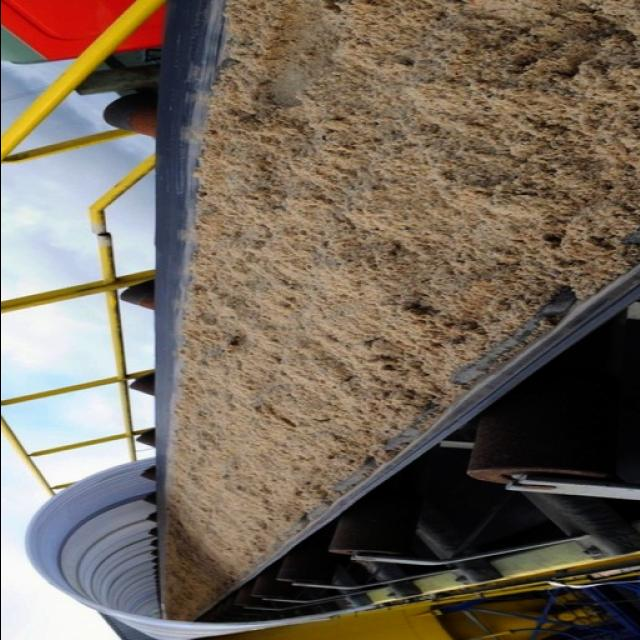conveyor: (158, 0, 640, 619)
